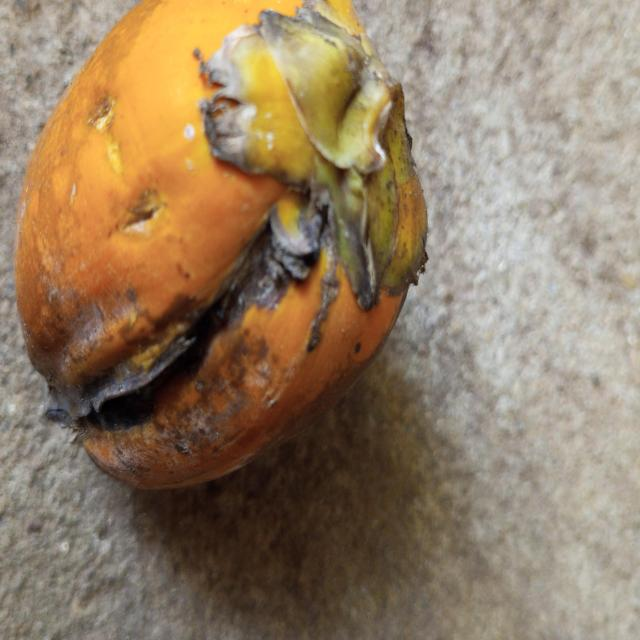damaged: (15, 0, 427, 487)
